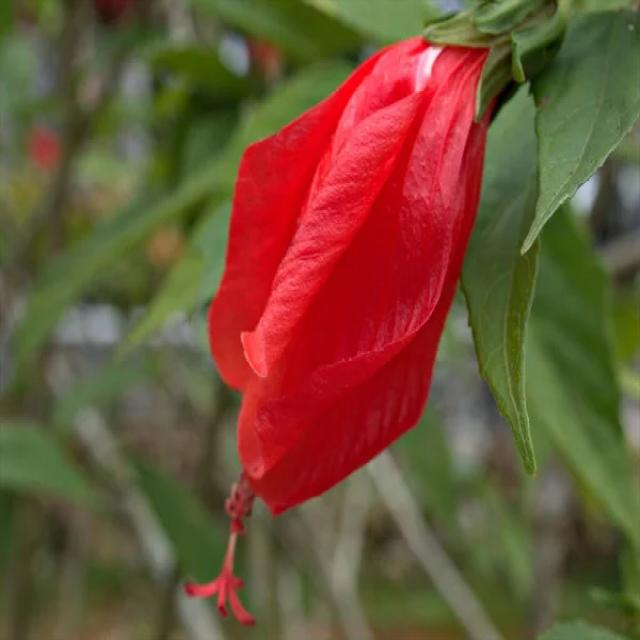Flower: (171, 2, 562, 629)
